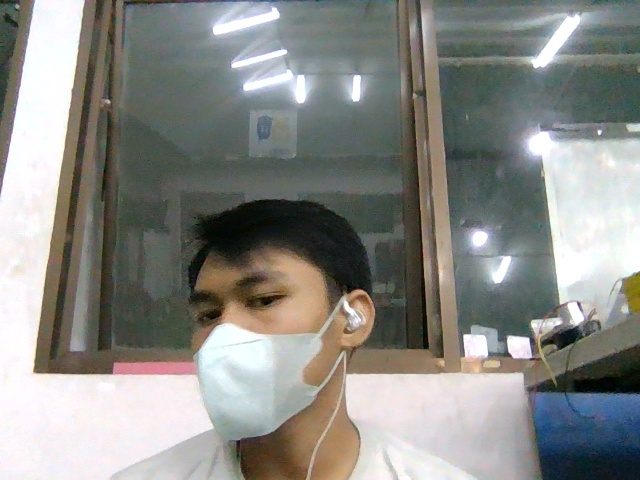mask_on: (192, 323, 336, 441)
